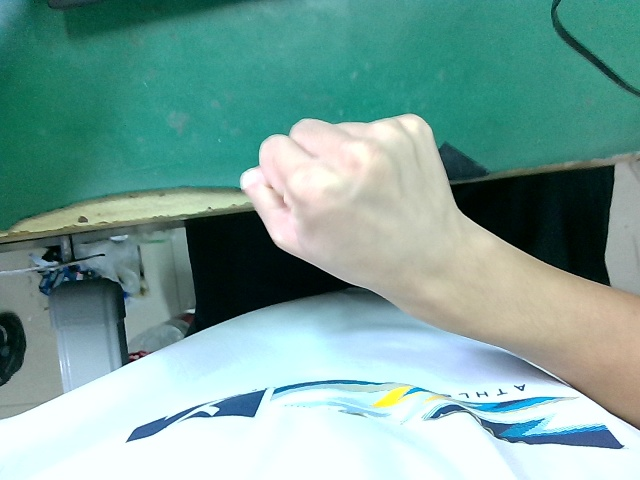stone: (239, 109, 476, 305)
